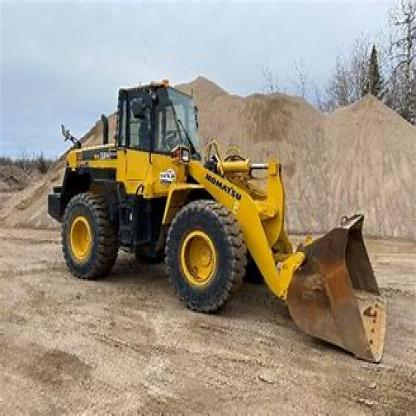bull_dozer/loader/grader: (43, 66, 393, 372)
